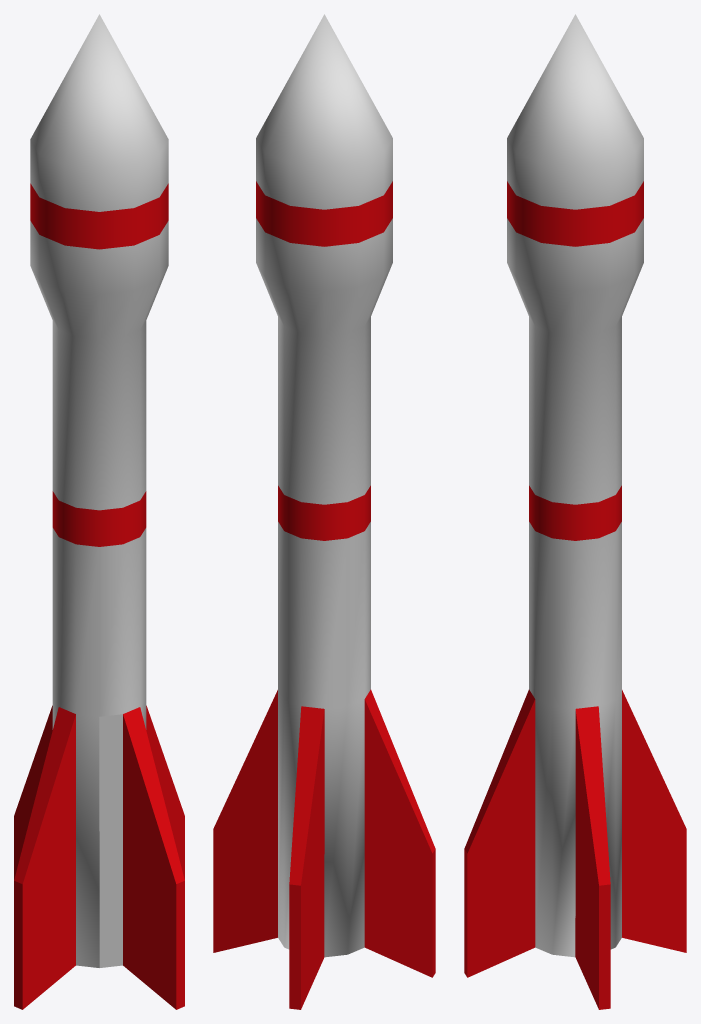
File: missile.fbx
3 renders of one model, left to right at view 1: azimuth 30°, elevation 25°; view 2: azimuth 150°, elevation 25°; view 3: azimuth 270°, elevation 25°, orthographic.
Visible parts, largest first — view 1: Missile; view 2: Missile; view 3: Missile.
Part boxes in pixels (x1,y1,x2,y2): Missile: (14,14,184,1009); Missile: (213,14,435,1009); Missile: (464,14,686,1009).
Bounding box in the file's own units: 162 × 764 × 162.
